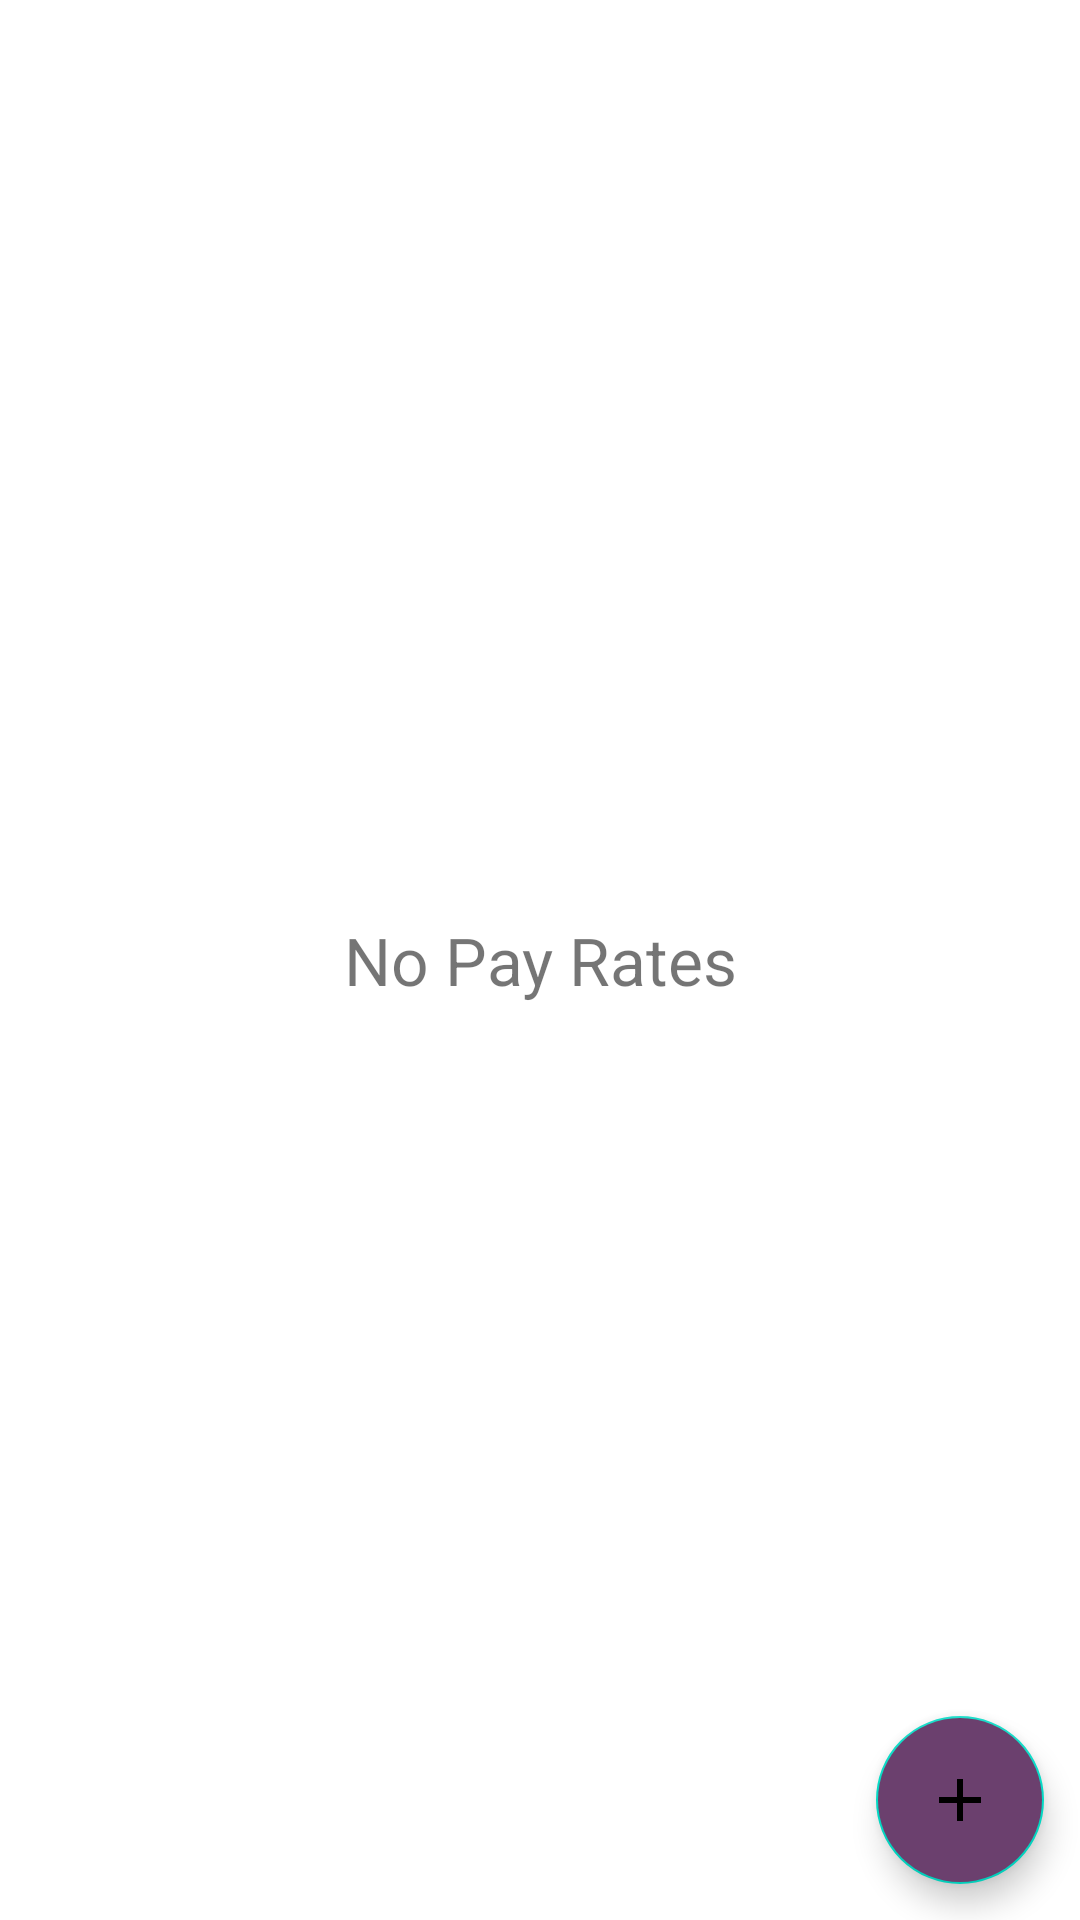

Icon click points for this 1080px×1920px phone screenshot, format (x,y):
Add Pay Rate Button: (960,1800)
